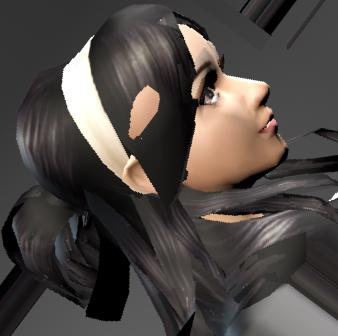clip: (124, 84, 164, 141)
